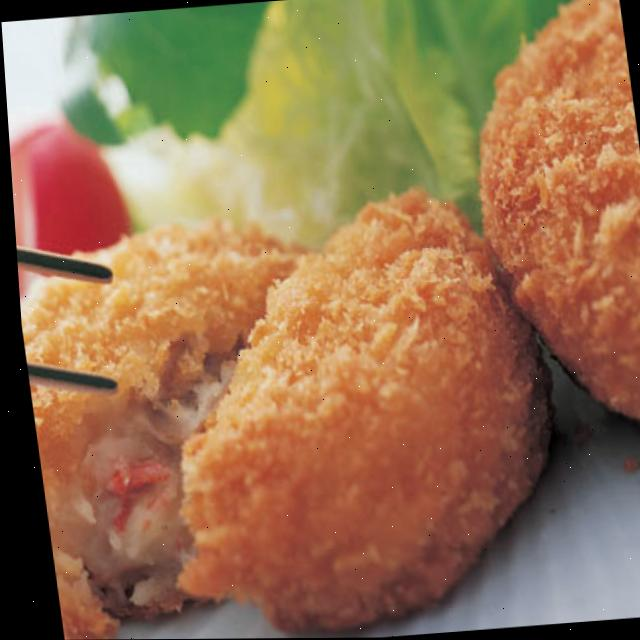炸货点心: (124, 143, 604, 639)
